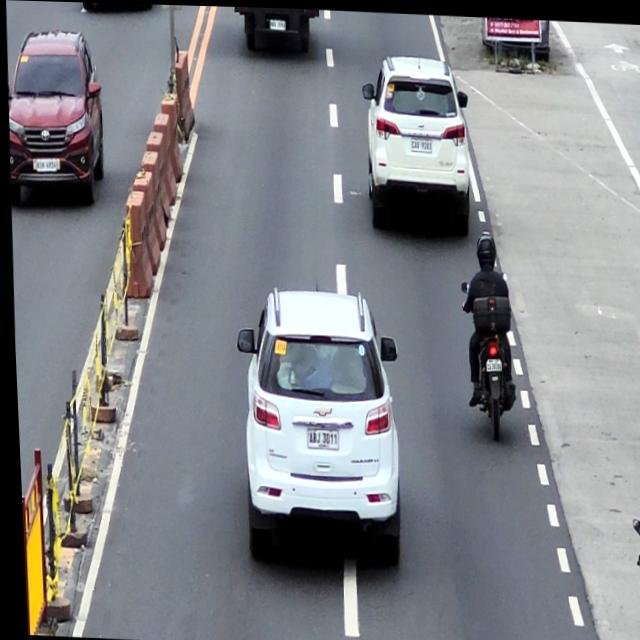Car: (228, 282, 404, 568), (357, 51, 473, 239), (3, 28, 108, 207)
License-Plate: (302, 427, 335, 448), (408, 134, 431, 151), (33, 159, 55, 172), (482, 355, 499, 370), (268, 17, 286, 29)
Motorcycle: (455, 266, 511, 438)
